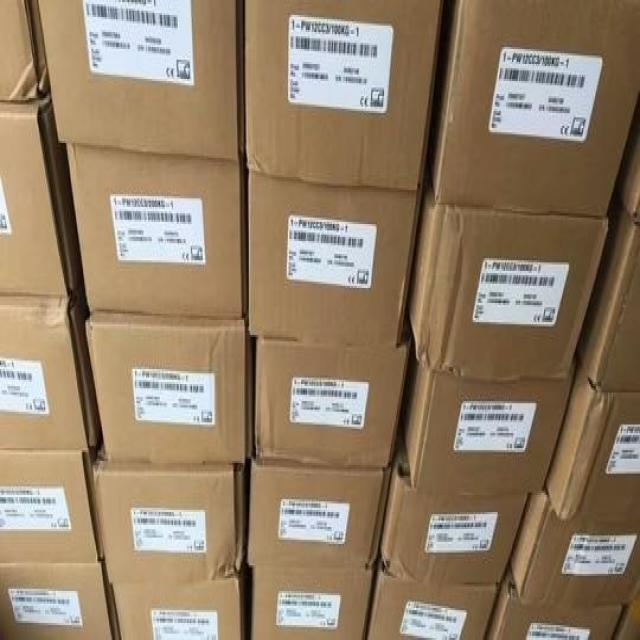box: (431, 2, 639, 213), (245, 2, 442, 190), (408, 198, 609, 375), (39, 0, 243, 158), (66, 145, 247, 318), (250, 173, 422, 343), (90, 322, 252, 461), (404, 365, 572, 493), (256, 341, 411, 465), (379, 459, 527, 585), (96, 465, 247, 580), (0, 102, 83, 294), (0, 301, 101, 448), (548, 371, 639, 529), (510, 495, 640, 604), (249, 465, 390, 565), (367, 561, 498, 638), (580, 233, 640, 390), (252, 565, 373, 640), (0, 563, 119, 638), (487, 574, 623, 638), (111, 578, 247, 640), (0, 2, 49, 100), (616, 595, 639, 640)
